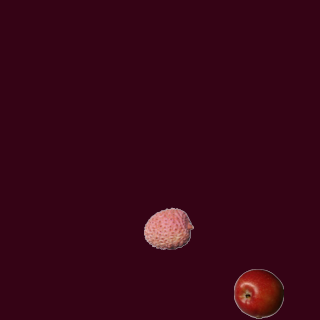Apple Braeburn: (233, 268, 283, 318)
Lychee: (143, 203, 193, 253)
